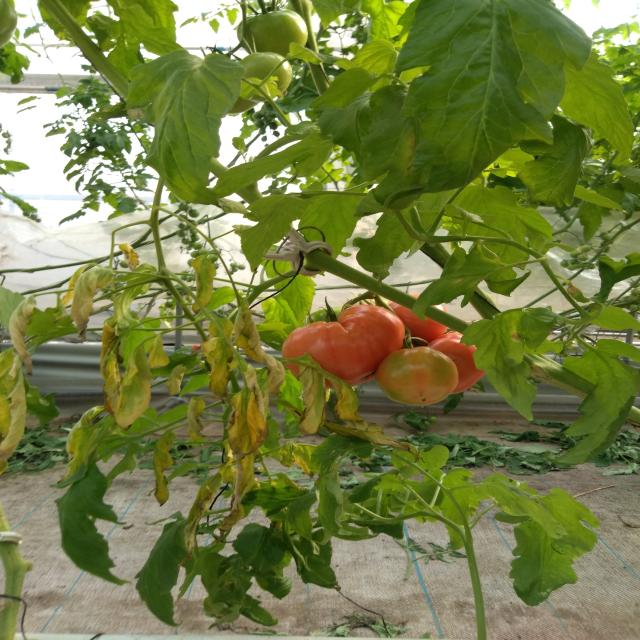n-half-riped: (376, 347, 460, 408)
n-riped: (282, 305, 405, 389), (426, 333, 486, 393), (387, 295, 448, 346)
n-unriped: (235, 8, 308, 56), (239, 51, 293, 103)
